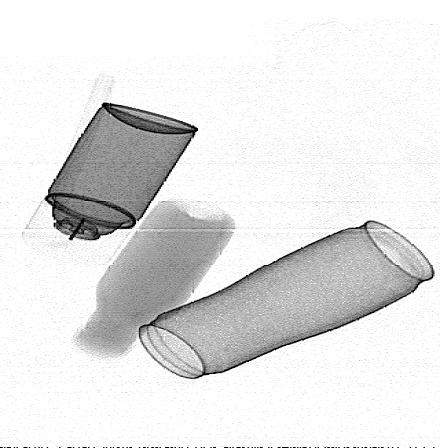Sprayer: (23, 103, 198, 267)
